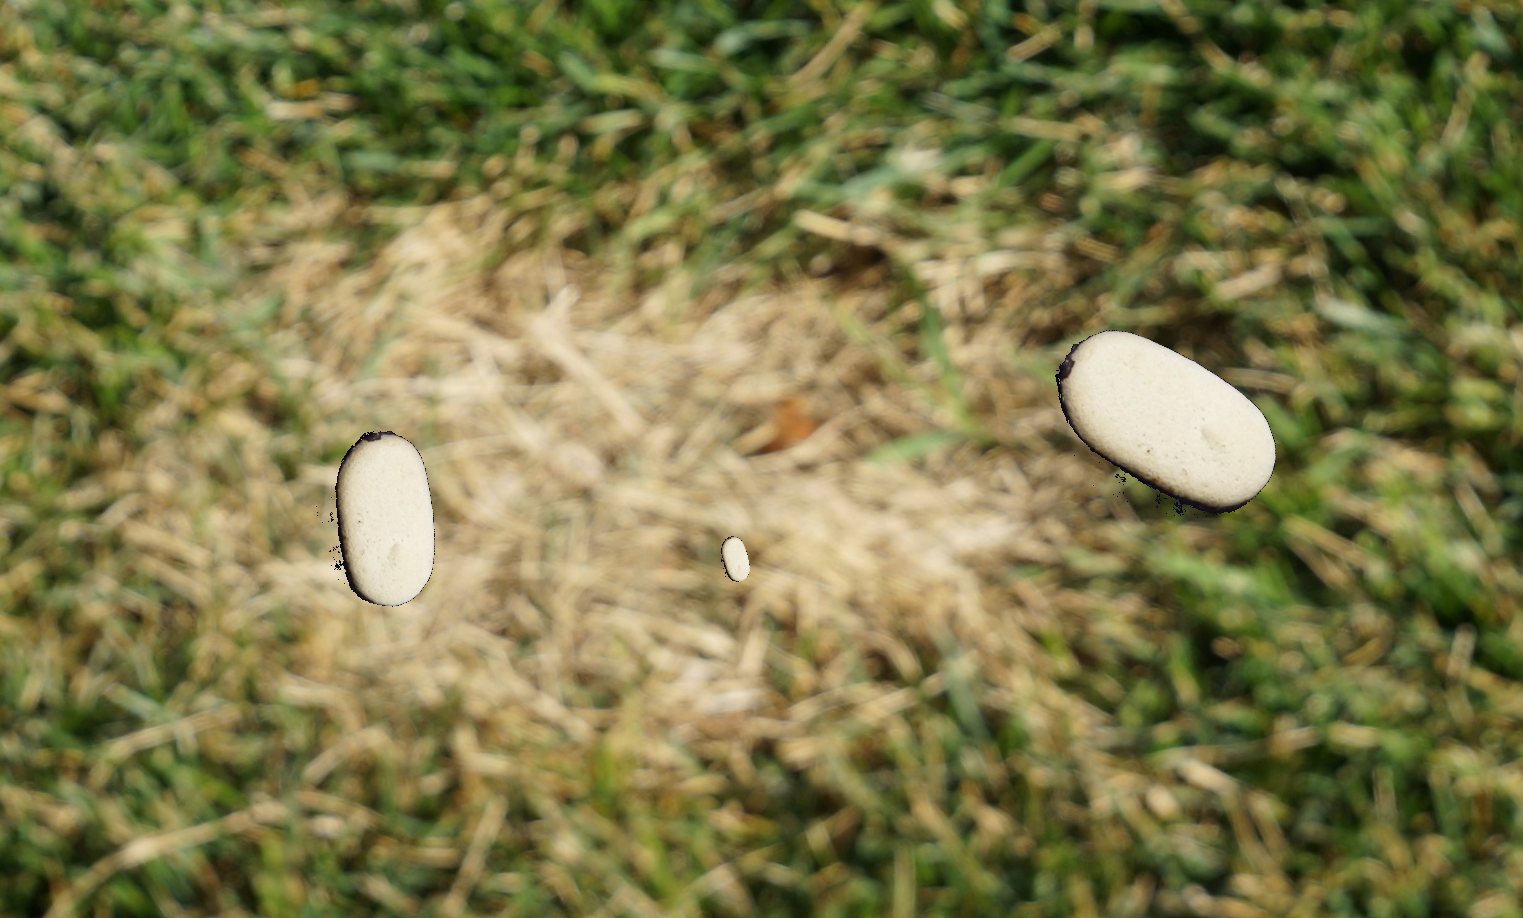test: (1032, 290, 1292, 558), (274, 410, 488, 627), (707, 531, 761, 586)
